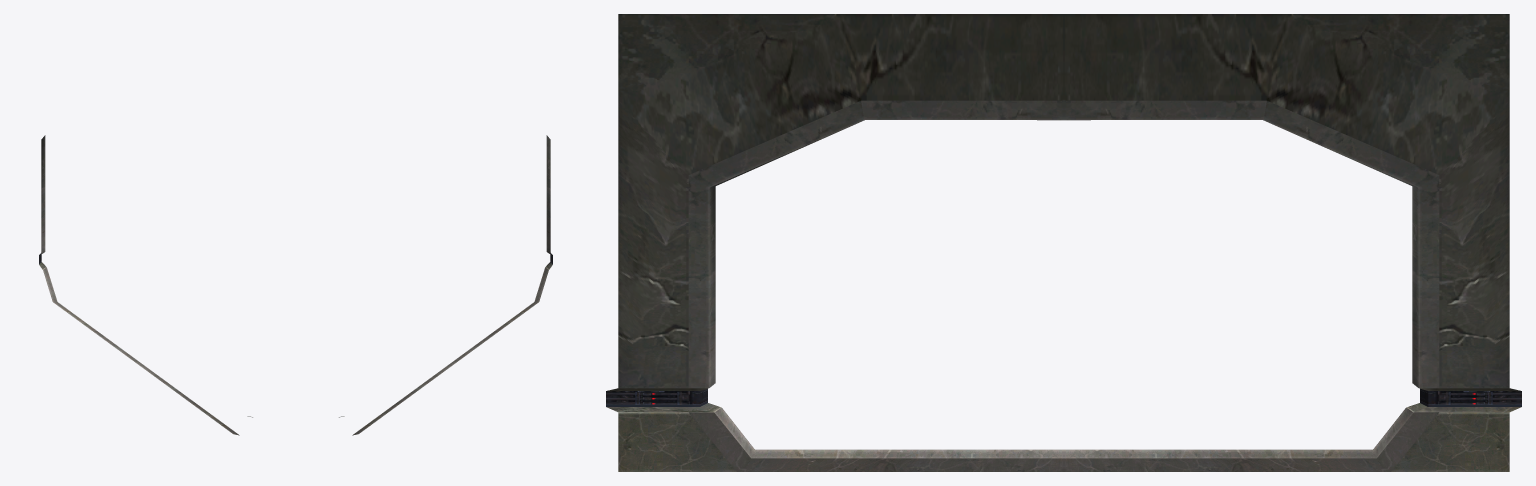
File: bel_arch_rakata_entrance_interior.glb
3 renders of one model, left to right at view 1: azimuth 30°, elevation 25°; view 2: azimuth 150°, elevation 25°; view 3: azimuth 270°, elevation 25°, orthographic. The views are drawn at different scales.
Parts seen in each view (by area): view 1: bel_arch_rakata_entrance_interior; view 2: bel_arch_rakata_entrance_interior; view 3: bel_arch_rakata_entrance_interior.
Boxes of the visible parts, x1=… form: bel_arch_rakata_entrance_interior: x1=39, y1=135, x2=252, y2=435; bel_arch_rakata_entrance_interior: x1=339, y1=135, x2=552, y2=435; bel_arch_rakata_entrance_interior: x1=606, y1=14, x2=1521, y2=471.
Bounding box in the file's own units: 0.0439 × 1.86 × 3.36.
Materials: 2 (2 with a texture image).
